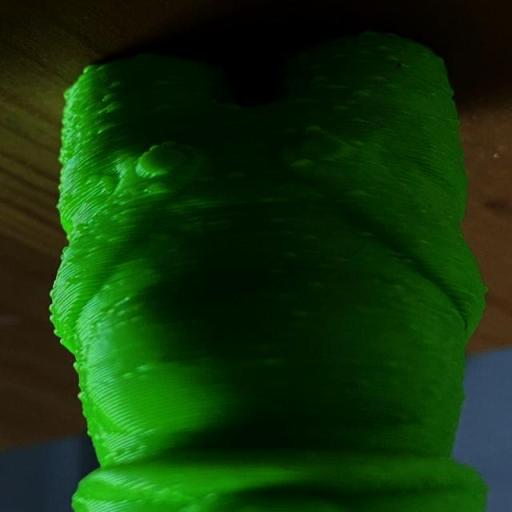blobs: (289, 156, 318, 170), (287, 306, 311, 322), (219, 100, 245, 113), (264, 264, 285, 278), (226, 168, 248, 180), (305, 122, 323, 136), (106, 99, 124, 113), (354, 84, 372, 98), (305, 278, 325, 290), (304, 231, 322, 244), (154, 100, 172, 113), (325, 81, 345, 91), (281, 250, 300, 260), (350, 187, 366, 198), (152, 78, 169, 88), (384, 52, 401, 62), (108, 78, 122, 90), (332, 102, 350, 111), (358, 230, 374, 240), (269, 215, 285, 225), (159, 138, 179, 146), (372, 42, 389, 51), (346, 138, 364, 146), (103, 91, 116, 102), (310, 72, 324, 82), (328, 52, 345, 60), (280, 125, 294, 134), (294, 96, 308, 105), (310, 62, 324, 70)
